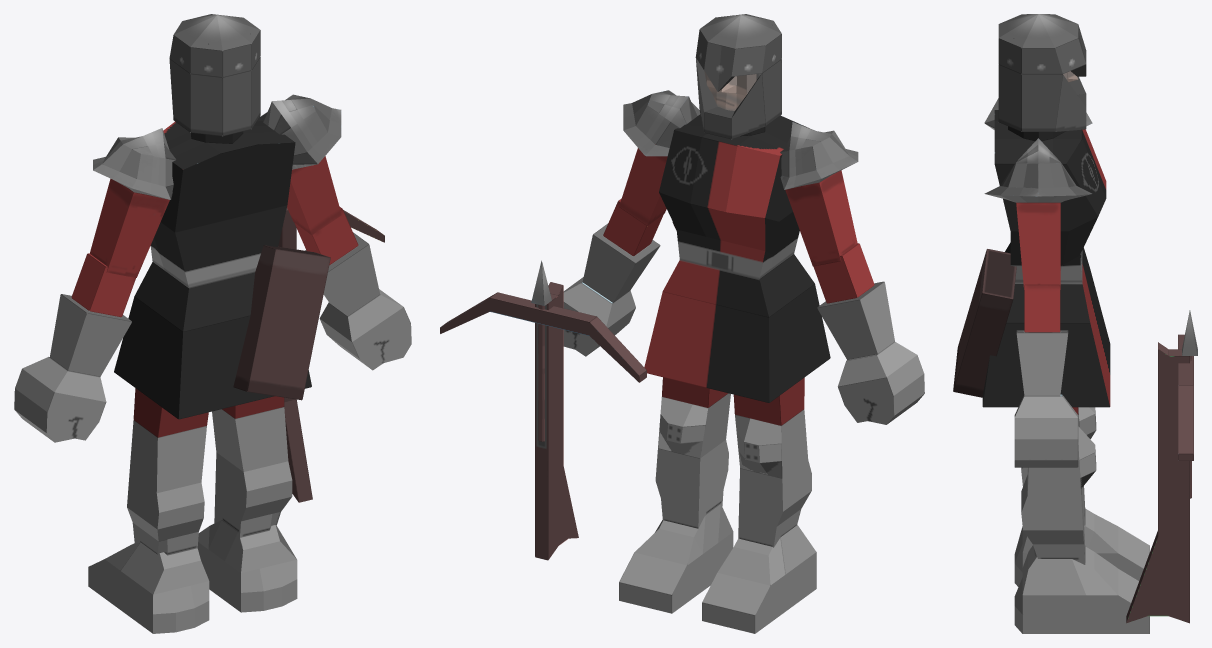
The model's file is crossbowman.fbx.
3 renders of one model, left to right at view 1: azimuth 30°, elevation 25°; view 2: azimuth 150°, elevation 25°; view 3: azimuth 270°, elevation 25°, orthographic. The views are drawn at different scales.
Parts seen in each view (by area): view 1: Torso, Tasset, cuboid, ShinL, BicepL, ShinR, FootL, FootR, ForearmL, BicepR, HandL, cylinder (+6 smaller); view 2: Torso, Tasset, ShinL, FootL, ShinR, BicepL, FootR, Stock, ForearmL, BicepR, HandL, cylinder_1 (+8 smaller); view 3: Torso, Stock, FootR, BicepR, Tasset, ShinR, cuboid, cylinder, cylinder_1, ForearmR, HandR, FootL (+3 smaller).
Boxes of the visible parts, x1,y1,x2,y2 form: Torso: (135,118,295,331); Tasset: (114,296,311,419); cuboid: (233,245,330,400); ShinL: (127,420,206,555); BicepL: (89,128,176,277); ShinR: (212,407,292,537); FootL: (88,542,209,633); FootR: (197,520,297,612); ForearmL: (49,253,135,376); BicepR: (259,94,341,234); HandL: (14,357,106,442); cylinder: (169,57,260,136); Torso: (659,114,814,317); Tasset: (644,284,830,402); ShinL: (735,409,811,547); FootL: (702,525,816,633); ShinR: (655,393,730,528); BicepL: (780,122,858,266); FootR: (619,504,733,613); Stock: (535,282,578,560); ForearmL: (813,243,894,359); BicepR: (619,90,700,225); HandL: (837,342,924,424); cylinder_1: (696,14,781,91); Torso: (994,110,1106,322); Stock: (1126,342,1189,623); FootR: (1014,545,1149,633); BicepR: (984,138,1092,289); Tasset: (982,270,1110,407); ShinR: (1021,422,1096,564); cuboid: (953,249,1016,397); cylinder: (998,64,1086,131); cylinder_1: (998,14,1086,76); ForearmR: (1016,284,1068,396); HandR: (1014,394,1078,467); FootL: (1014,508,1149,586).
Bounding box in the file's own units: 375 × 506 × 192.
Materials: 10 (10 with a texture image).
